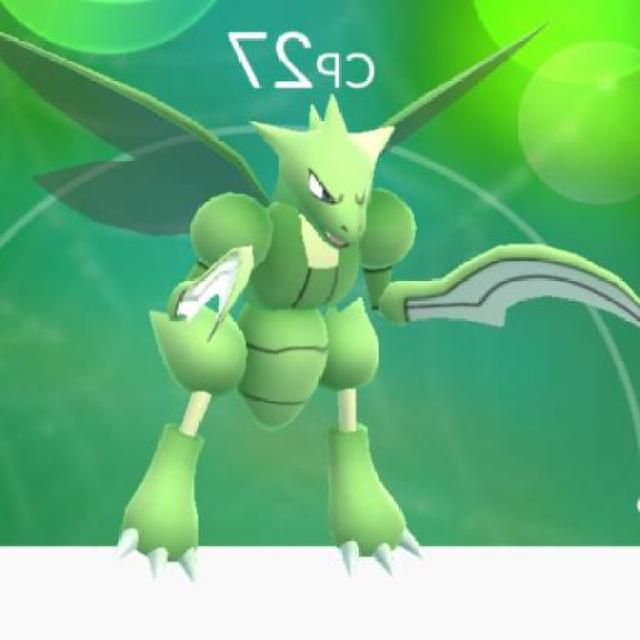Scyther: (119, 93, 472, 574)
